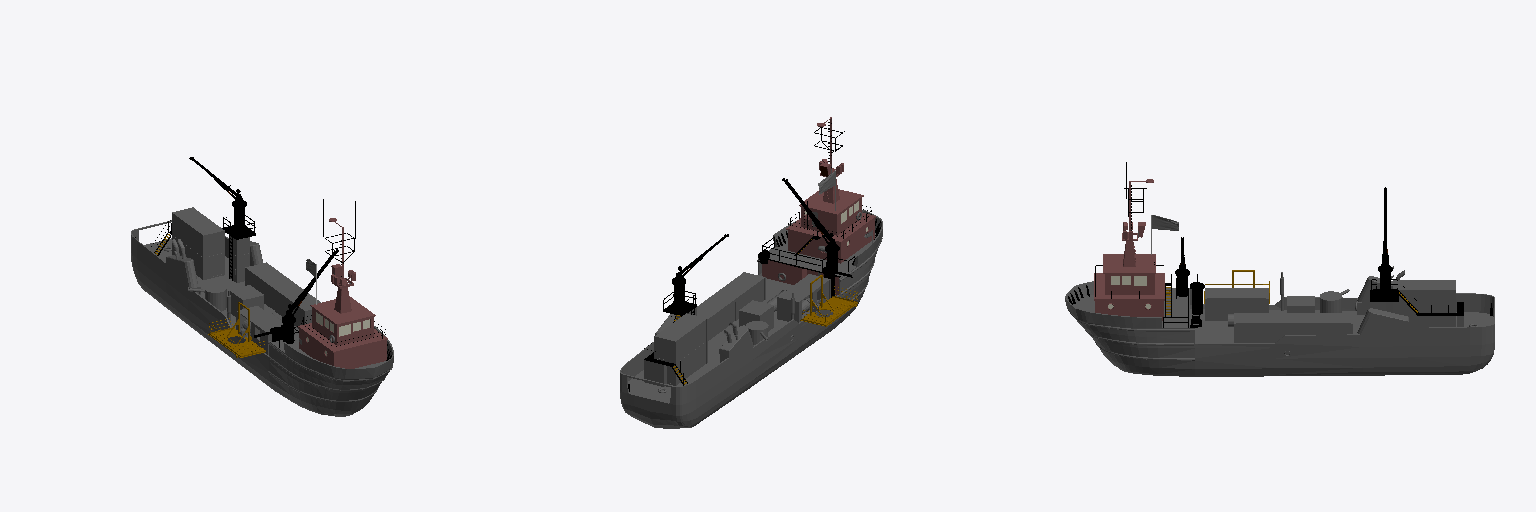
Rendered from shipboat2.obj.
3 views of the same model, side by side, from view 1: azimuth 30°, elevation 25°; view 2: azimuth 150°, elevation 25°; view 3: azimuth 270°, elevation 25° (orthographic).
Visible parts, largest first — view 1: (null); view 2: (null); view 3: (null).
Boxes of the visible parts, x1,y1,x2,y2 form: (null): [131, 157, 393, 416]; (null): [620, 117, 882, 428]; (null): [1065, 162, 1494, 376].
Size of the model in its own units: 9.72 by 18.1 by 33.5.